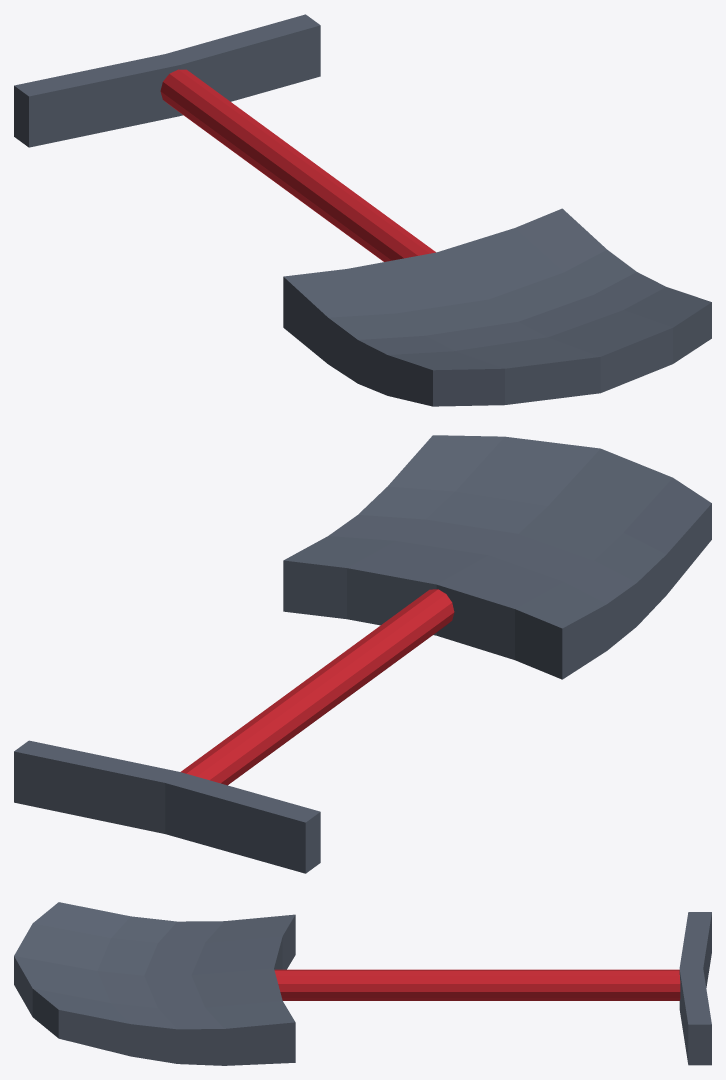
File: Showel.fbx
3 renders of one model, top to bottom at view 1: azimuth 30°, elevation 25°; view 2: azimuth 150°, elevation 25°; view 3: azimuth 270°, elevation 25°, orthographic. The views are drawn at different scales.
Parts seen in each view (by area): view 1: Showel; view 2: Showel; view 3: Showel.
Boxes of the visible parts, box(x1,y1,x2,y2) form: Showel: box(14, 14, 711, 406); Showel: box(14, 435, 711, 873); Showel: box(14, 902, 711, 1065).
Bounding box in the file's own units: 9.72 × 2.26 × 25.45.
1 material, 1 textured.
